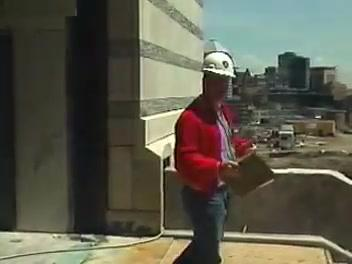no -hi-vis jacket: (176, 103, 244, 188)
